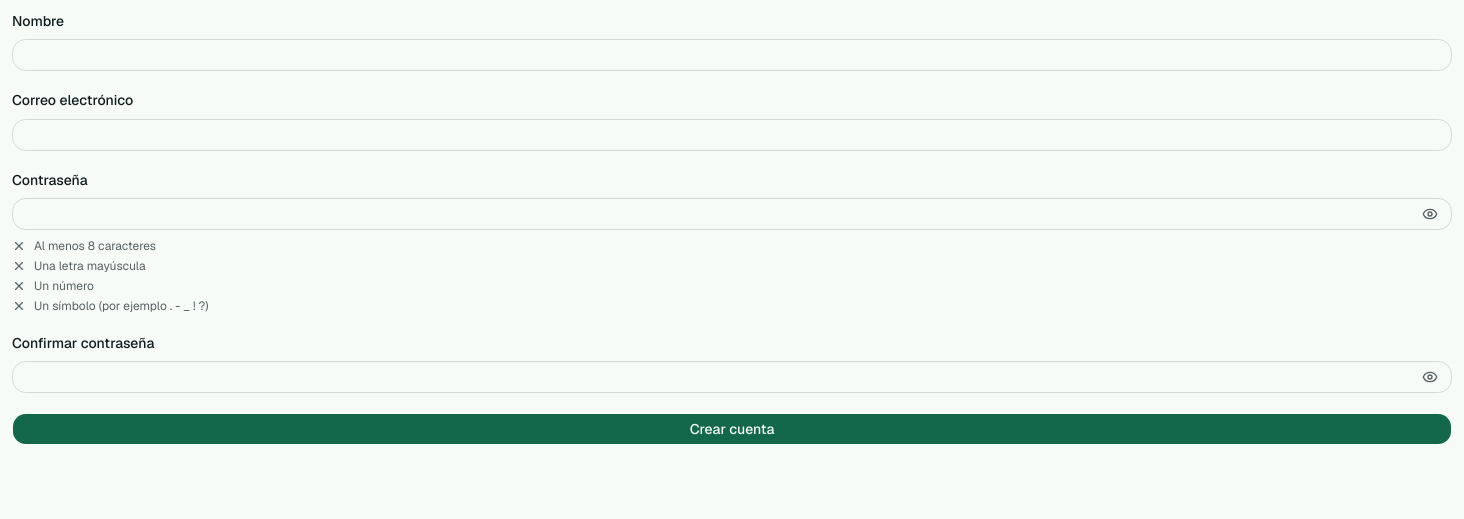
Test: SignupForm › shows a generic error when the network request fails
Type "Ana Pérez" into the field labelled "Nombre" at (732, 55), box [12,39,1452,71]
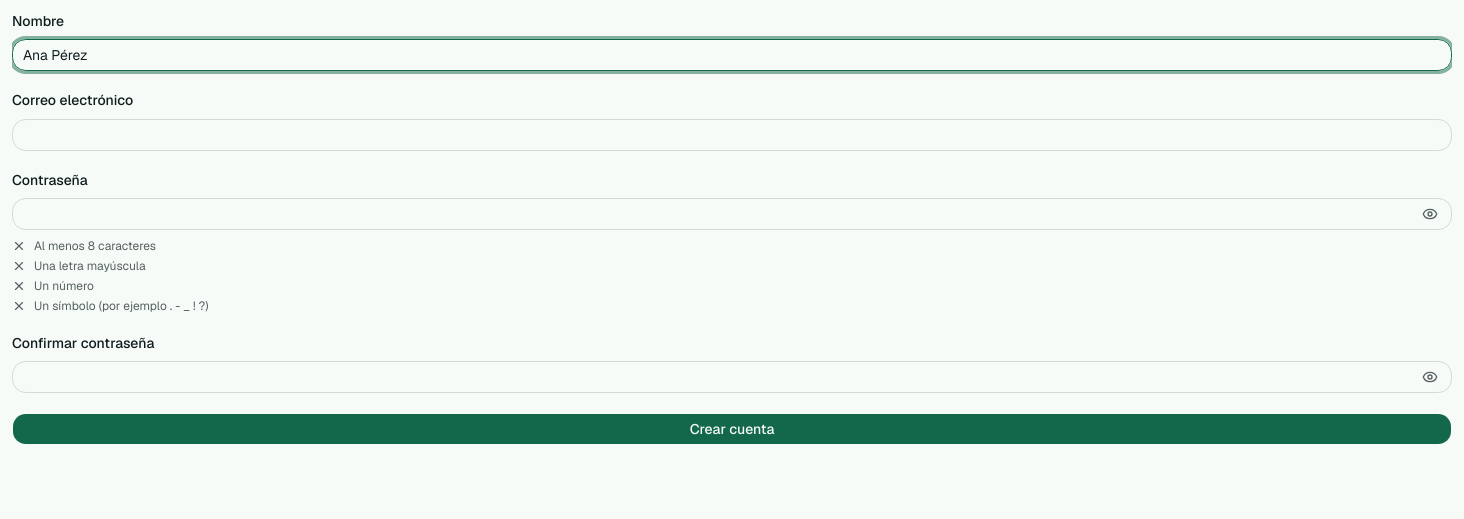
Type "ana@example.com" into the field labelled "Correo electrónico" at (732, 134), box [12,118,1452,150]
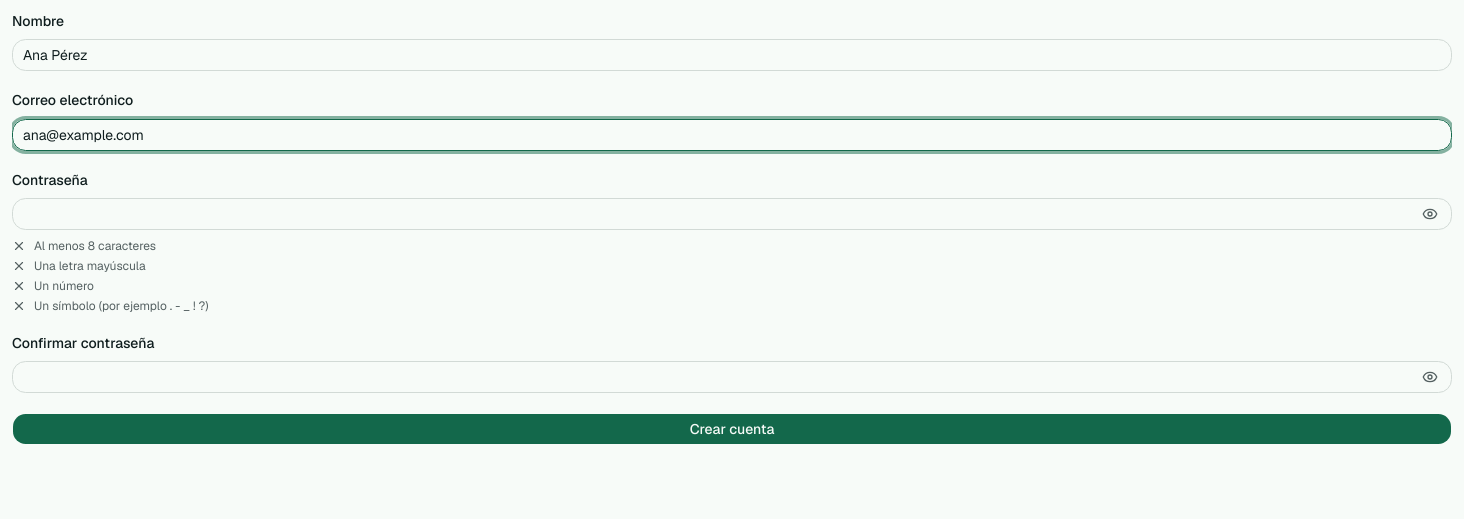
Type "SecurePass123!" into the password field labelled "Contraseña" at (732, 214), box [12,198,1452,230]
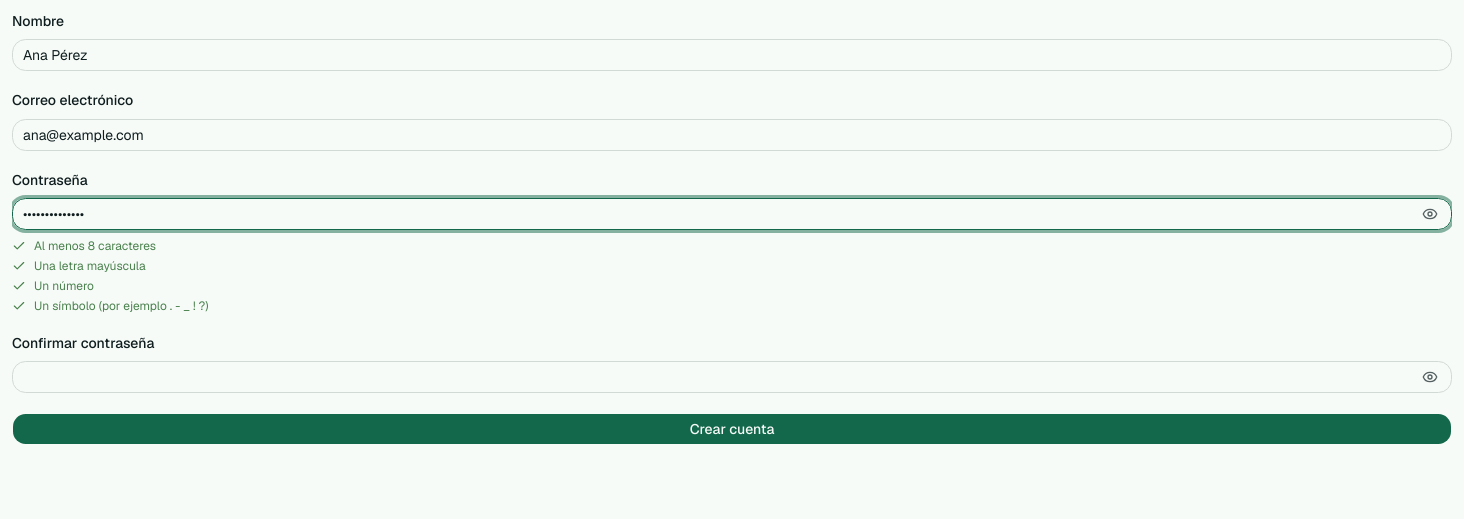
Type "SecurePass123!" into the password field labelled "Confirmar contraseña" at (732, 377), box [12,361,1452,393]
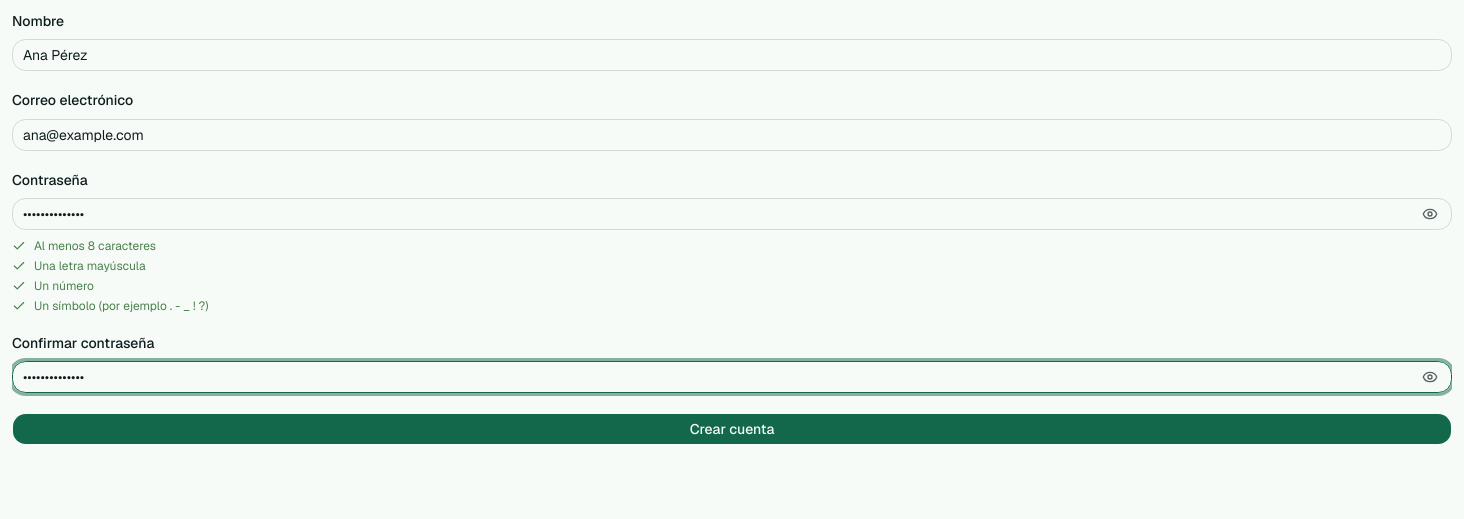
Click the button "Crear cuenta" at (732, 429), box [12,413,1452,445]
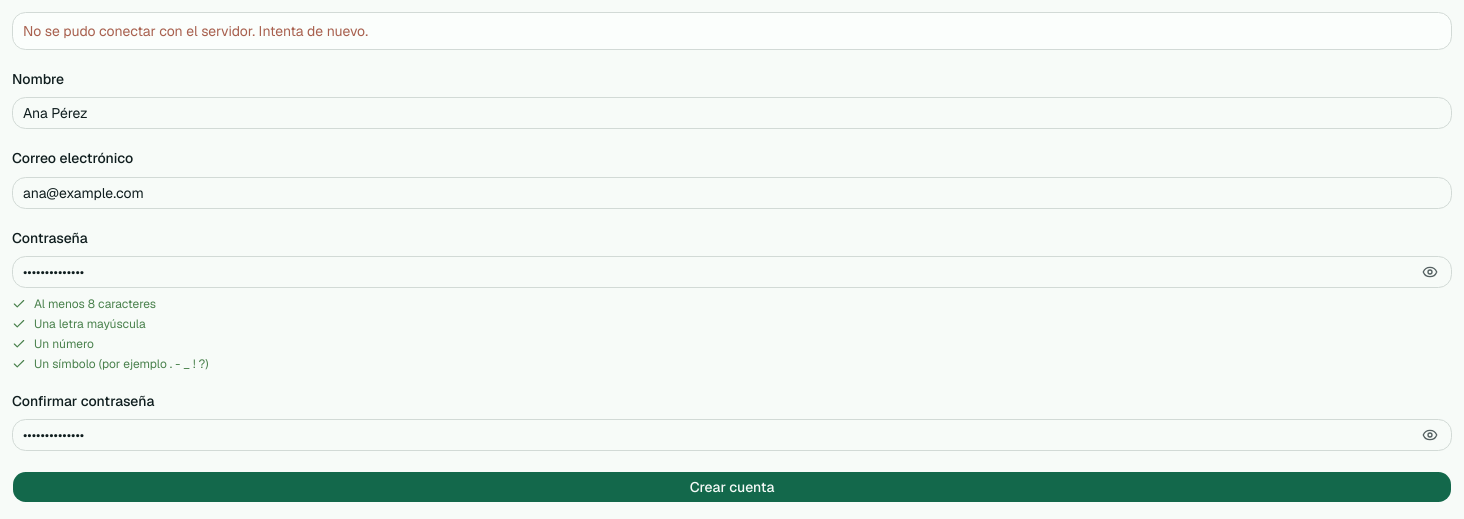
Result: the text "No se pudo conectar con el servidor. Intenta de nuevo." is shown at [23,22,368,40]
